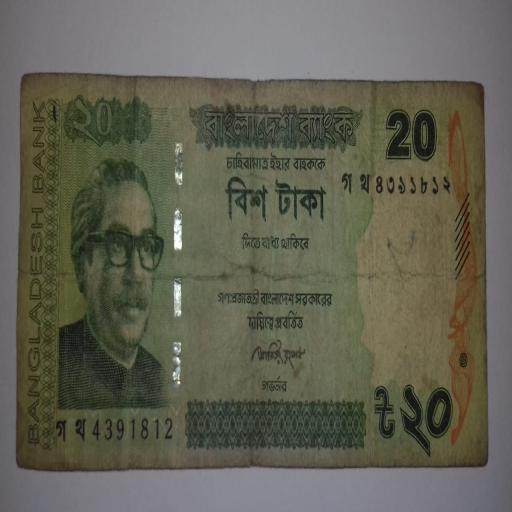20taka: (15, 73, 488, 470)
